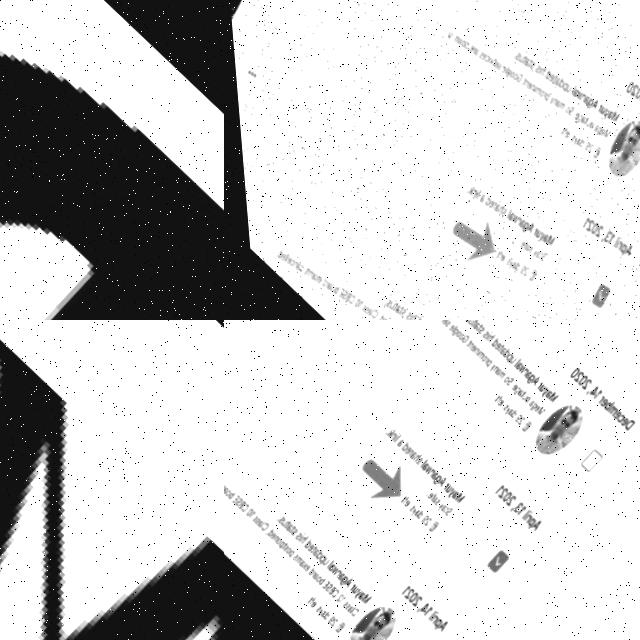0: (617, 72, 634, 89), (580, 214, 597, 231), (626, 77, 640, 94), (571, 366, 585, 381), (563, 358, 577, 373), (397, 587, 411, 602), (493, 484, 507, 498), (344, 295, 356, 307), (238, 505, 248, 516)
1: (573, 210, 588, 225), (599, 225, 613, 240), (586, 381, 599, 393), (487, 478, 499, 491), (413, 601, 425, 614), (391, 580, 403, 593), (509, 499, 521, 511), (347, 298, 358, 309), (239, 509, 250, 519)
2: (622, 74, 639, 92), (575, 211, 592, 228), (585, 217, 601, 234), (575, 370, 589, 385), (567, 362, 581, 377), (489, 480, 503, 495), (498, 488, 512, 502), (401, 591, 415, 605), (393, 583, 407, 597), (630, 80, 640, 97), (580, 136, 592, 148), (513, 262, 525, 274), (510, 409, 521, 420), (414, 512, 425, 523), (319, 615, 330, 626)
3: (592, 222, 609, 239), (504, 494, 517, 509)
4: (582, 377, 596, 392), (408, 597, 422, 612)
9: (575, 133, 589, 147), (510, 259, 523, 272), (507, 406, 518, 418), (317, 612, 327, 624), (412, 510, 423, 520)
D: (0, 0, 224, 320)
M: (0, 329, 224, 640)
